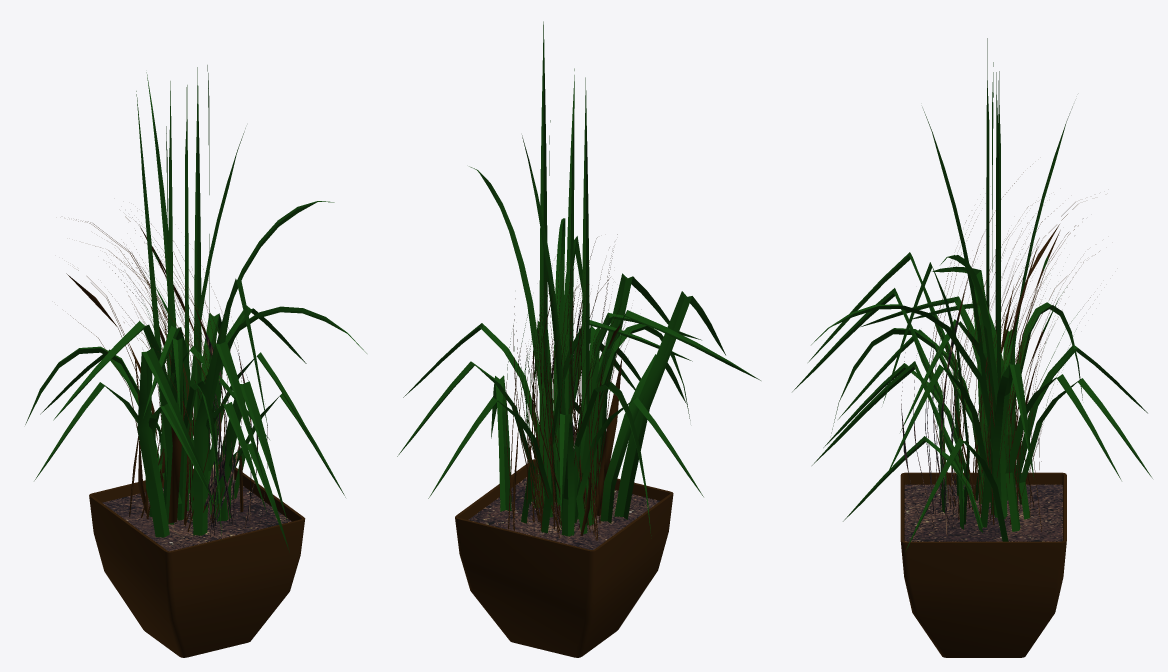
The model's file is plant.gltf.
3 views of the same model, side by side, from view 1: azimuth 30°, elevation 25°; view 2: azimuth 150°, elevation 25°; view 3: azimuth 270°, elevation 25° (orthographic). The views are drawn at different scales.
Parts seen in each view (by area): view 1: Geode; view 2: Geode; view 3: Geode.
Boxes of the visible parts, left/top/right/bottom form: Geode: left=25, top=65, right=366, bottom=657; Geode: left=397, top=21, right=760, bottom=657; Geode: left=792, top=38, right=1152, bottom=657.
Bounding box in the file's own units: 535 × 1026 × 532.
1 material, 1 textured.
